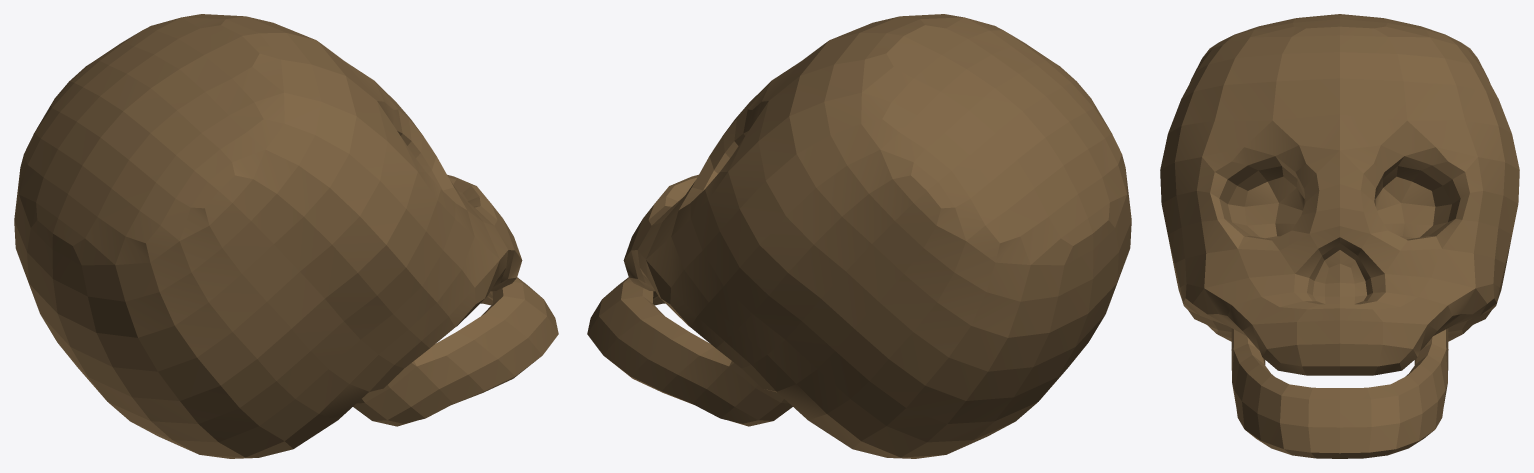
File: Skull.obj
The picture shows the model from 3 angles, left to right: view 1: azimuth 30°, elevation 25°; view 2: azimuth 150°, elevation 25°; view 3: azimuth 270°, elevation 25°; orthographic projection. The views are drawn at different scales.
Visible parts, largest first — view 1: Skull; view 2: Skull; view 3: Skull.
Boxes of the visible parts, x1=… form: Skull: x1=14, y1=14, x2=558, y2=458; Skull: x1=587, y1=14, x2=1131, y2=458; Skull: x1=1160, y1=14, x2=1519, y2=458.
Size of the model in its own units: 0.6006 by 0.461 by 0.4383.
